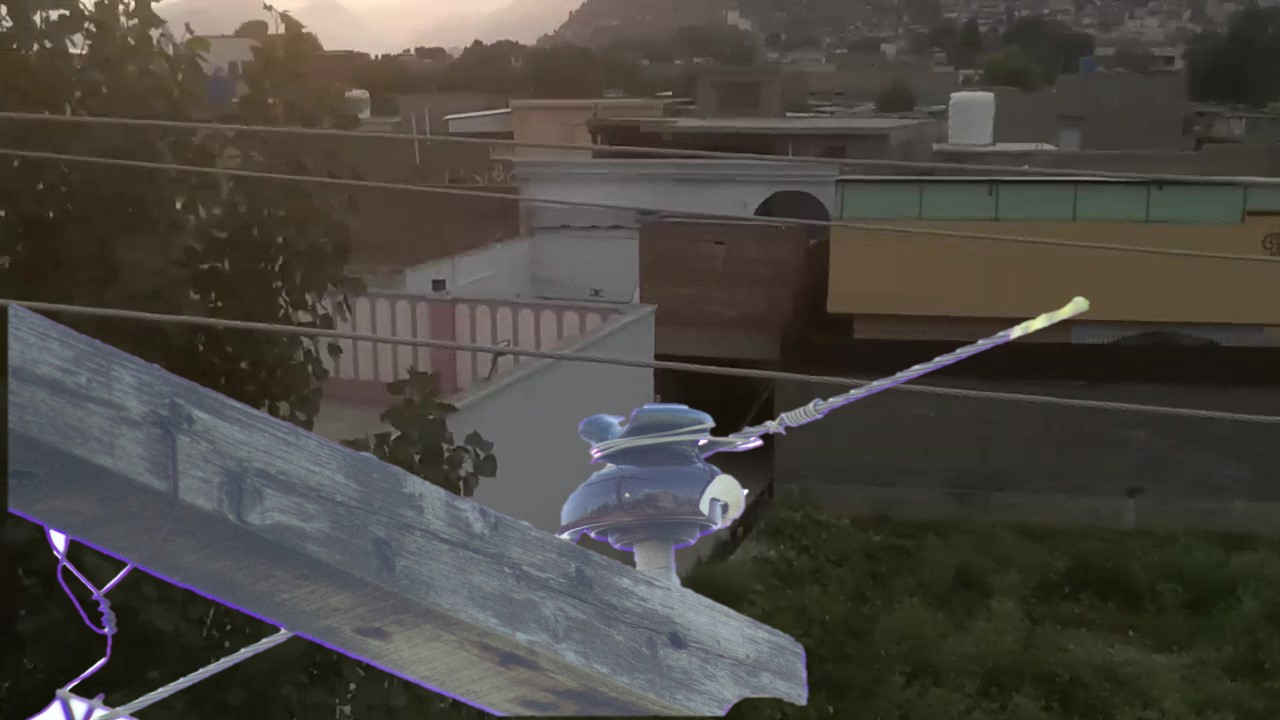defect_pin: (557, 394, 760, 558)
